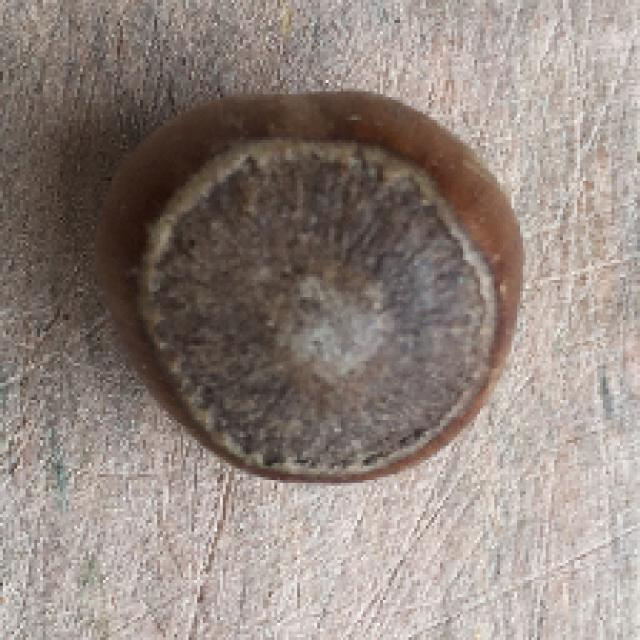DamagedHazelnut: (99, 92, 518, 489)
